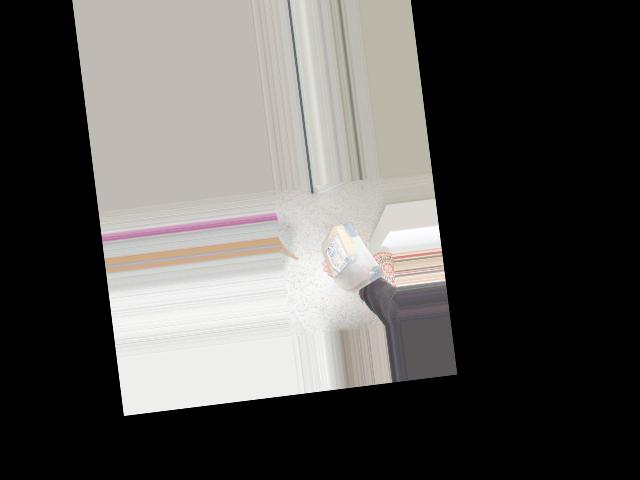cheese: (317, 215, 385, 306)
